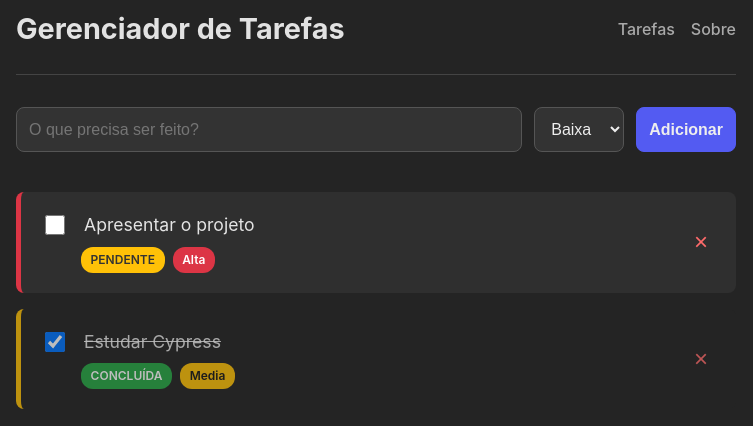
Scenario: Funcionalidades da Aplicação de Tarefas › deve excluir uma tarefa ao clicar no botão de exclusão
Click the button with class "delete-button" in the row of "Apresentar o projeto" at (701, 242), box 686,228 -> 716,256
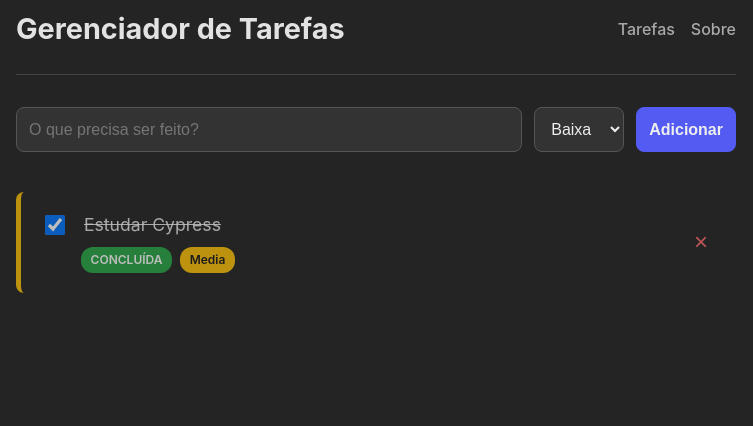
Now the text "Apresentar o projeto" is gone
